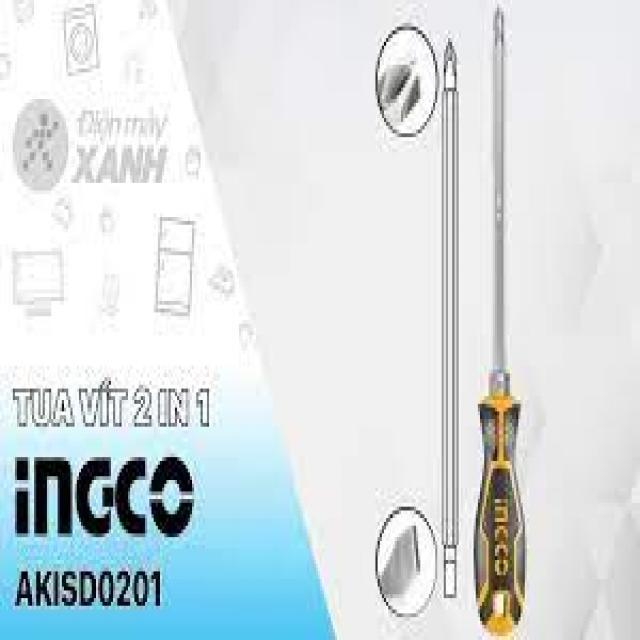screwdriver: (472, 4, 528, 640)
